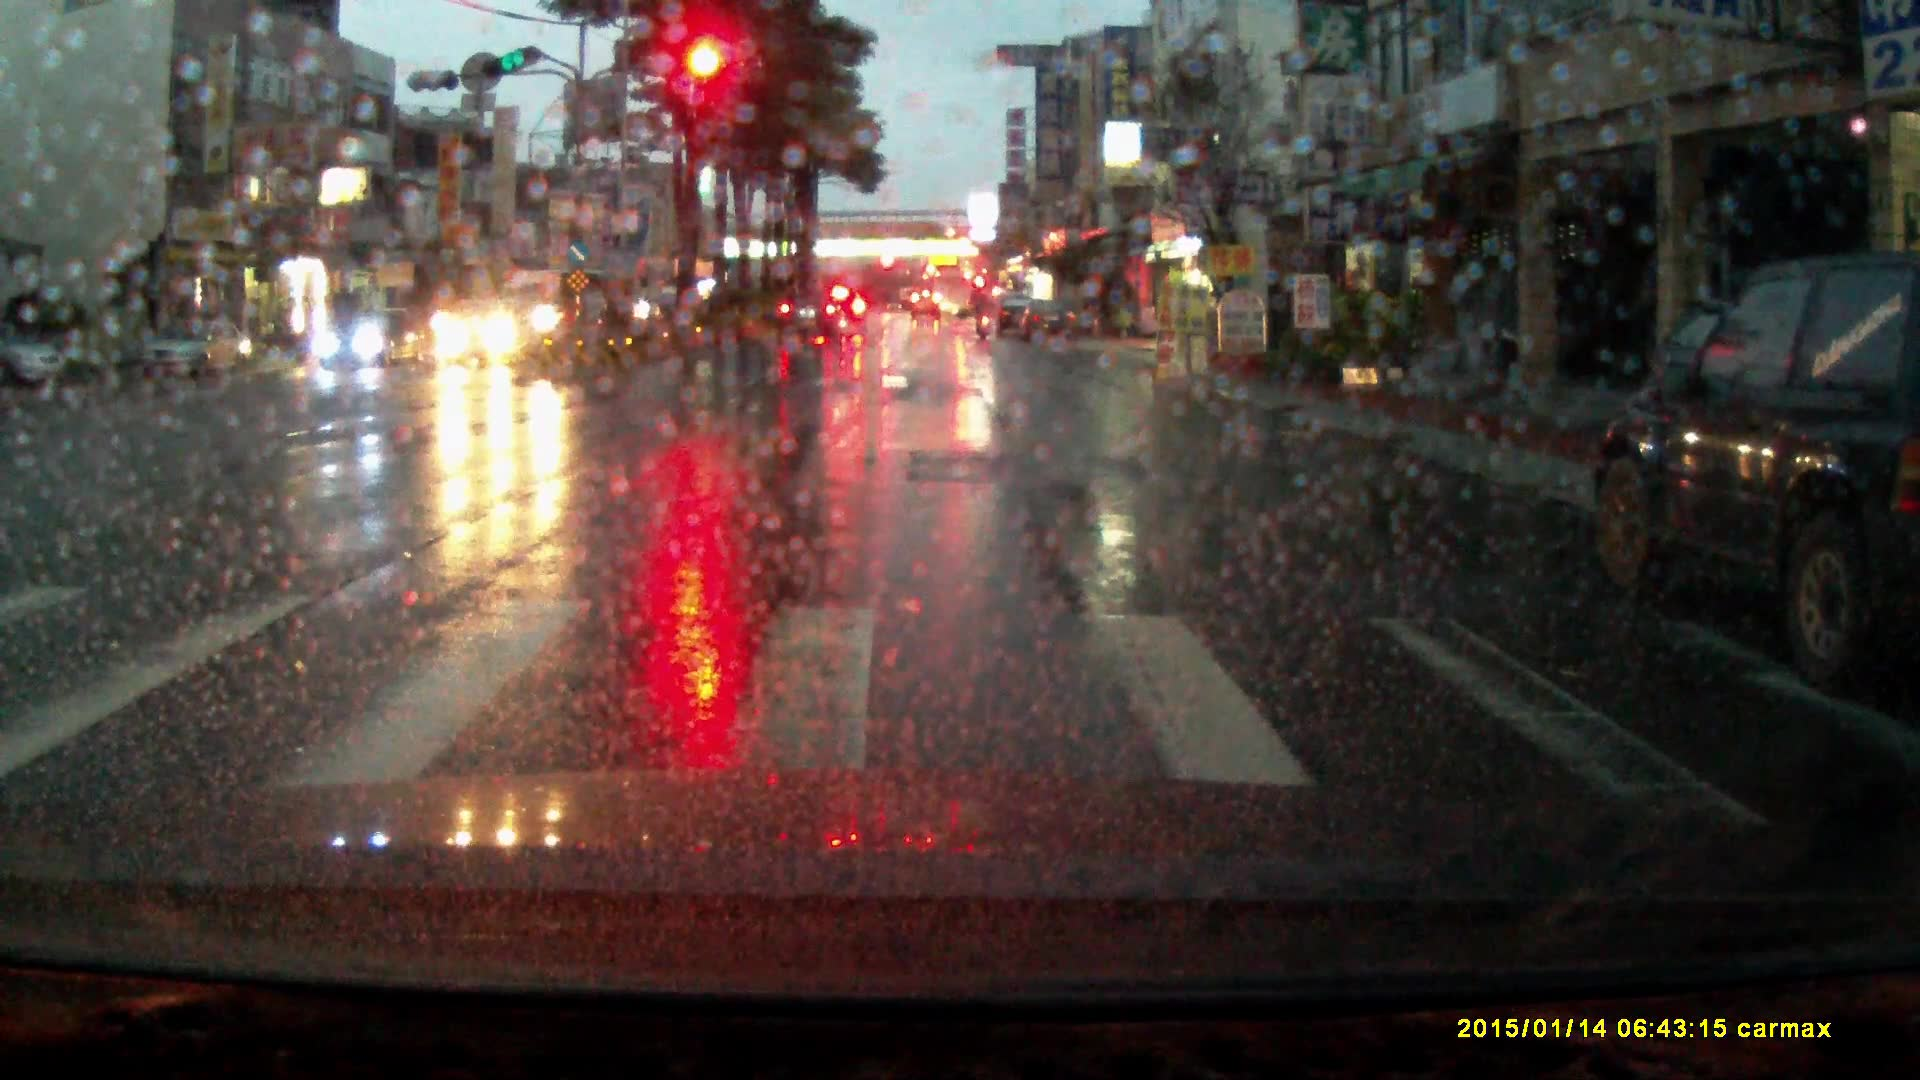rider: (975, 291, 995, 340)
vehicle: (1582, 248, 1920, 683), (431, 298, 546, 370), (316, 306, 428, 375), (142, 314, 253, 380), (494, 268, 591, 341), (574, 288, 664, 340), (778, 290, 846, 349), (1, 331, 69, 389), (1017, 300, 1079, 346), (931, 264, 973, 321), (828, 287, 871, 331), (995, 295, 1030, 338), (911, 291, 943, 322)
